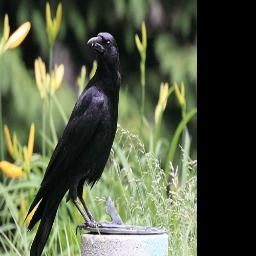Crow: (22, 31, 121, 256)
